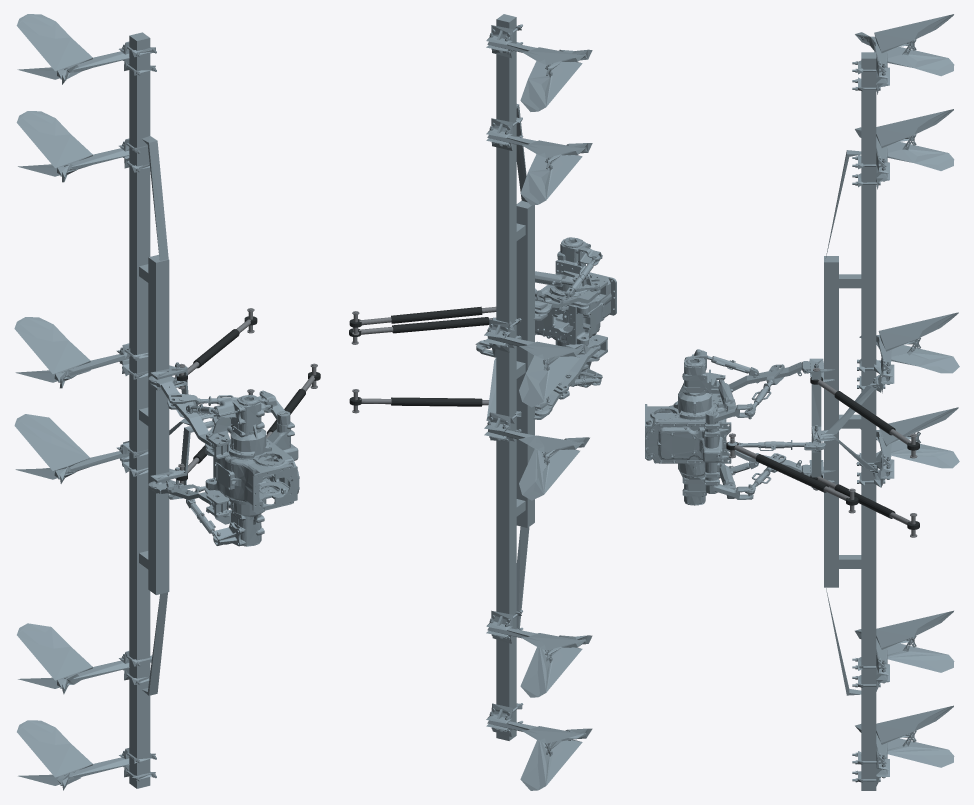
File: implement_groove_maker_visual.obj
3 renders of one model, left to right at view 1: azimuth 30°, elevation 25°; view 2: azimuth 150°, elevation 25°; view 3: azimuth 270°, elevation 25°, orthographic. The views are drawn at different scales.
Visible parts, largest first — view 1: solid_0, solid_4, solid_335, solid_358, solid_190, solid_98, solid_247, solid_144, solid_297, solid_52, solid_6, solid_5 (+9 smaller); view 2: solid_0, solid_4, solid_335, solid_296, solid_189, solid_143, solid_246, solid_97, solid_51, hitch_top_link_sleeve, solid_358, hitch_lower_right_sleeve (+12 smaller); view 3: solid_0, solid_4, solid_327, solid_358, solid_97, solid_51, solid_190, solid_297, solid_296, solid_144, solid_52, solid_189 (+12 smaller).
Part boxes in pixels (left/top/right/bottom): solid_0: left=129, top=32, right=150, bottom=788; solid_4: left=148, top=254, right=169, bottom=594; solid_335: left=205, top=443, right=297, bottom=512; solid_358: left=228, top=398, right=271, bottom=545; solid_190: left=16, top=14, right=92, bottom=71; solid_98: left=17, top=720, right=92, bottom=777; solid_247: left=14, top=414, right=90, bottom=470; solid_144: left=16, top=111, right=92, bottom=168; solid_297: left=14, top=317, right=90, bottom=373; solid_52: left=17, top=623, right=92, bottom=680; solid_6: left=142, top=136, right=168, bottom=260; solid_5: left=142, top=592, right=167, bottom=695; solid_0: left=496, top=14, right=516, bottom=740; solid_4: left=516, top=200, right=534, bottom=527; solid_335: left=535, top=272, right=616, bottom=345; solid_296: left=519, top=355, right=579, bottom=407; solid_189: left=520, top=61, right=582, bottom=111; solid_143: left=520, top=154, right=582, bottom=205; solid_246: left=519, top=449, right=579, bottom=500; solid_97: left=520, top=739, right=582, bottom=790; solid_51: left=520, top=647, right=582, bottom=697; hitch_top_link_sleeve: left=392, top=317, right=489, bottom=333; solid_358: left=550, top=240, right=589, bottom=379; hitch_lower_right_sleeve: left=391, top=397, right=482, bottom=406; solid_0: left=861, top=52, right=876, bottom=790; solid_4: left=824, top=256, right=838, bottom=587; solid_327: left=645, top=421, right=731, bottom=485; solid_358: left=673, top=358, right=717, bottom=504; solid_97: left=887, top=730, right=954, bottom=767; solid_51: left=887, top=636, right=954, bottom=672; solid_190: left=874, top=14, right=953, bottom=52; solid_297: left=878, top=312, right=958, bottom=351; solid_296: left=891, top=337, right=959, bottom=373; solid_144: left=876, top=109, right=953, bottom=147; solid_52: left=876, top=610, right=953, bottom=649; solid_189: left=887, top=39, right=954, bottom=76.
Size of the model in its own units: 1.92 by 5.51 by 2.1.
